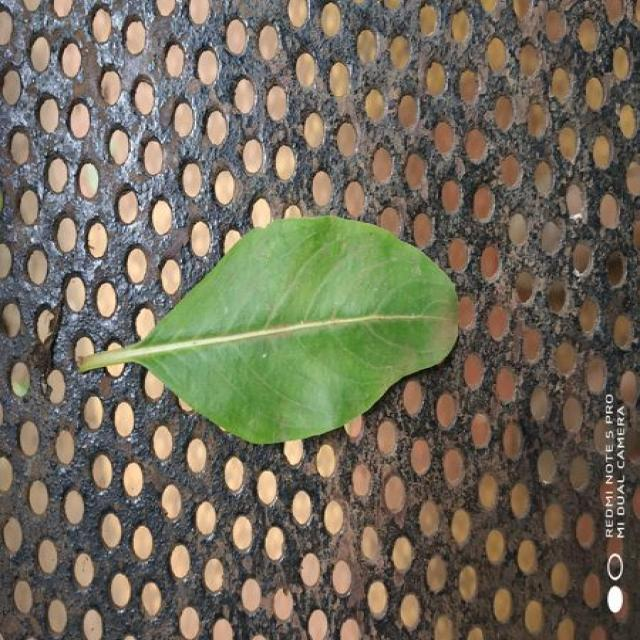catharanthus: (80, 216, 458, 443)
